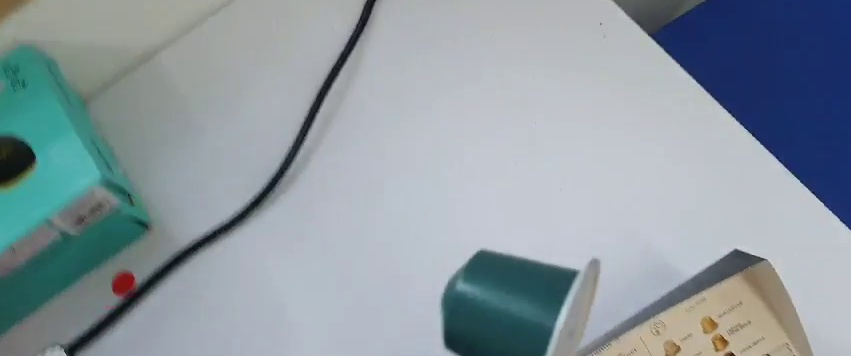capsule_13: (436, 244, 602, 356)
